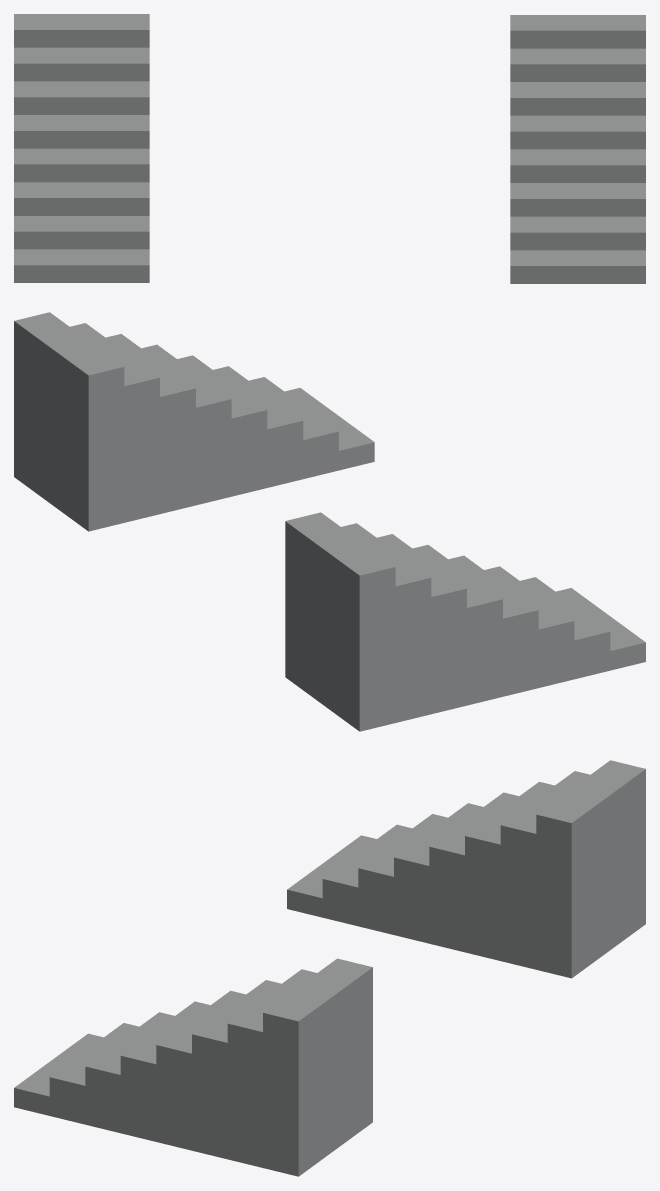
The model's file is Escaleras.fbx.
3 renders of one model, top to bottom at view 1: azimuth 30°, elevation 25°; view 2: azimuth 150°, elevation 25°; view 3: azimuth 270°, elevation 25°, orthographic. The views are drawn at different scales.
Visible parts, largest first — view 1: Cube.007, Cube.009; view 2: Cube.009, Cube.007; view 3: Cube.007, Cube.009.
Boxes of the visible parts, x1,y1,x2,y2 form: Cube.007: [510, 15, 645, 283]; Cube.009: [14, 14, 149, 282]; Cube.009: [285, 512, 645, 731]; Cube.007: [14, 312, 374, 531]; Cube.007: [14, 958, 372, 1176]; Cube.009: [287, 760, 645, 978].
Bounding box in the file's own units: 148 × 33.25 × 123.
2 materials, 2 textured.
